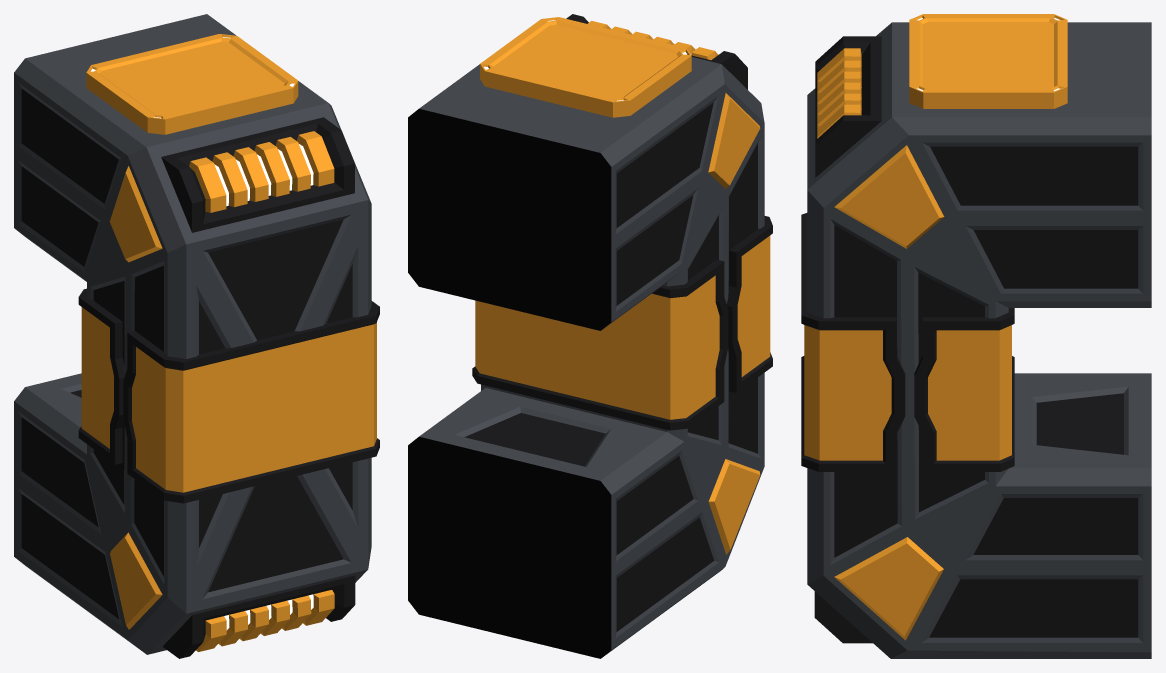
File: SM_Coveyor_elevator.glb
3 views of the same model, side by side, from view 1: azimuth 30°, elevation 25°; view 2: azimuth 150°, elevation 25°; view 3: azimuth 270°, elevation 25° (orthographic). The views are drawn at different scales.
Visible parts, largest first — view 1: SM_Coveyor_elevator; view 2: SM_Coveyor_elevator; view 3: SM_Coveyor_elevator.
Boxes of the visible parts, <box> form: SM_Coveyor_elevator: <box>14,14,379,658</box>; SM_Coveyor_elevator: <box>408,14,772,658</box>; SM_Coveyor_elevator: <box>801,14,1151,658</box>.
Size of the model in its own units: 1.29 by 2.99 by 1.7.
Materials: 2 (1 with a texture image).
